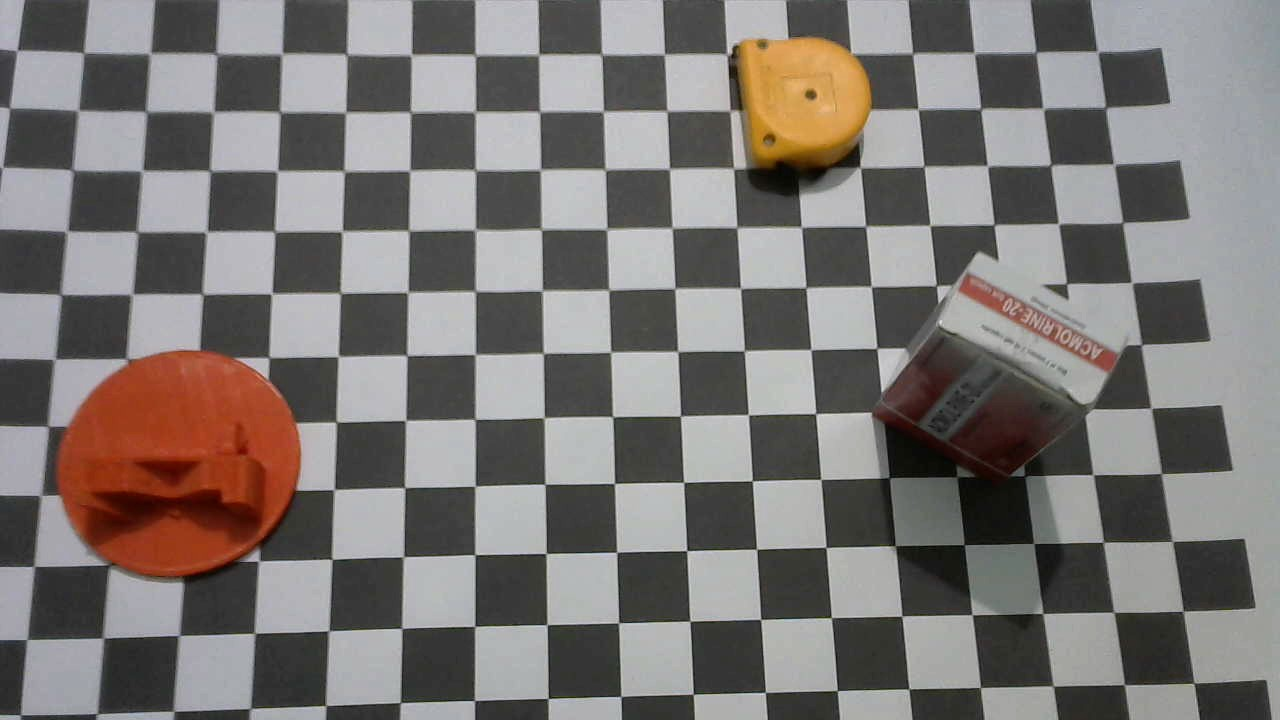blue: (727, 34, 869, 173)
green: (54, 349, 305, 581)
red: (876, 250, 1129, 483)
